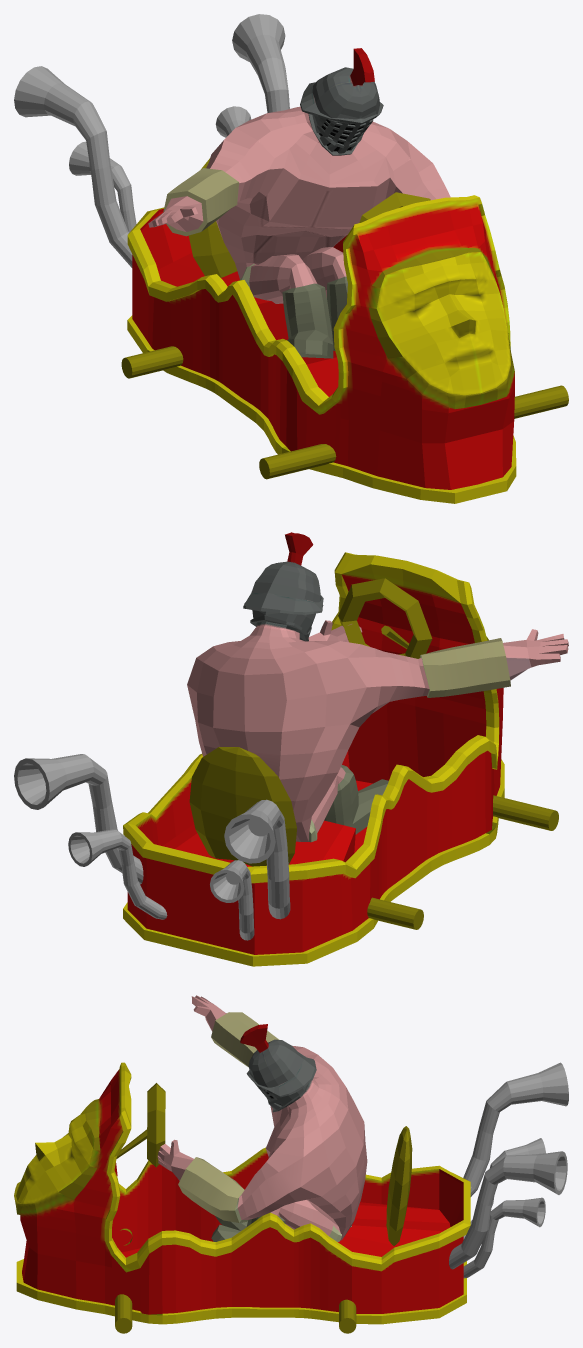
File: gladiVacile_000535.obj
3 views of the same model, one above another, from view 1: azimuth 30°, elevation 25°; view 2: azimuth 150°, elevation 25°; view 3: azimuth 270°, elevation 25° (orthographic). The views are drawn at different scales.
Parts seen in each view (by area): view 1: GladiChasis_GladiChasisH, Gadiador_Gladiador_H.001, GladiTubos_GladiTubosH, GladiVolante_GladiVolanteH; view 2: GladiChasis_GladiChasisH, Gadiador_Gladiador_H.001, GladiTubos_GladiTubosH, GladiVolante_GladiVolanteH; view 3: GladiChasis_GladiChasisH, Gadiador_Gladiador_H.001, GladiTubos_GladiTubosH, GladiVolante_GladiVolanteH.
Boxes of the visible parts, x1,y1,x2,y2 form: GladiChasis_GladiChasisH: (127, 195, 516, 503); Gadiador_Gladiador_H.001: (148, 48, 450, 358); GladiTubos_GladiTubosH: (14, 14, 289, 267); GladiVolante_GladiVolanteH: (121, 158, 568, 479); GladiChasis_GladiChasisH: (123, 552, 504, 966); Gadiador_Gladiador_H.001: (187, 532, 568, 842); GladiTubos_GladiTubosH: (14, 754, 290, 940); GladiVolante_GladiVolanteH: (189, 578, 558, 929); GladiChasis_GladiChasisH: (14, 1062, 470, 1324); Gadiador_Gladiador_H.001: (157, 995, 367, 1241); GladiTubos_GladiTubosH: (449, 1062, 568, 1278); GladiVolante_GladiVolanteH: (115, 1083, 412, 1333).
Size of the model in its own units: 6.6 by 5.74 by 10.78.
